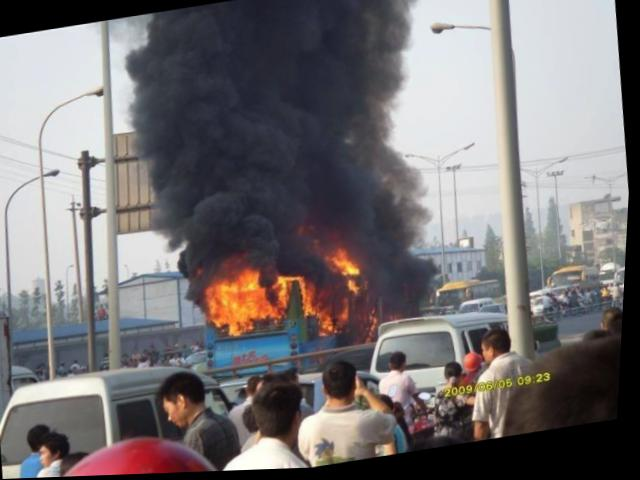fire: (187, 210, 414, 367)
